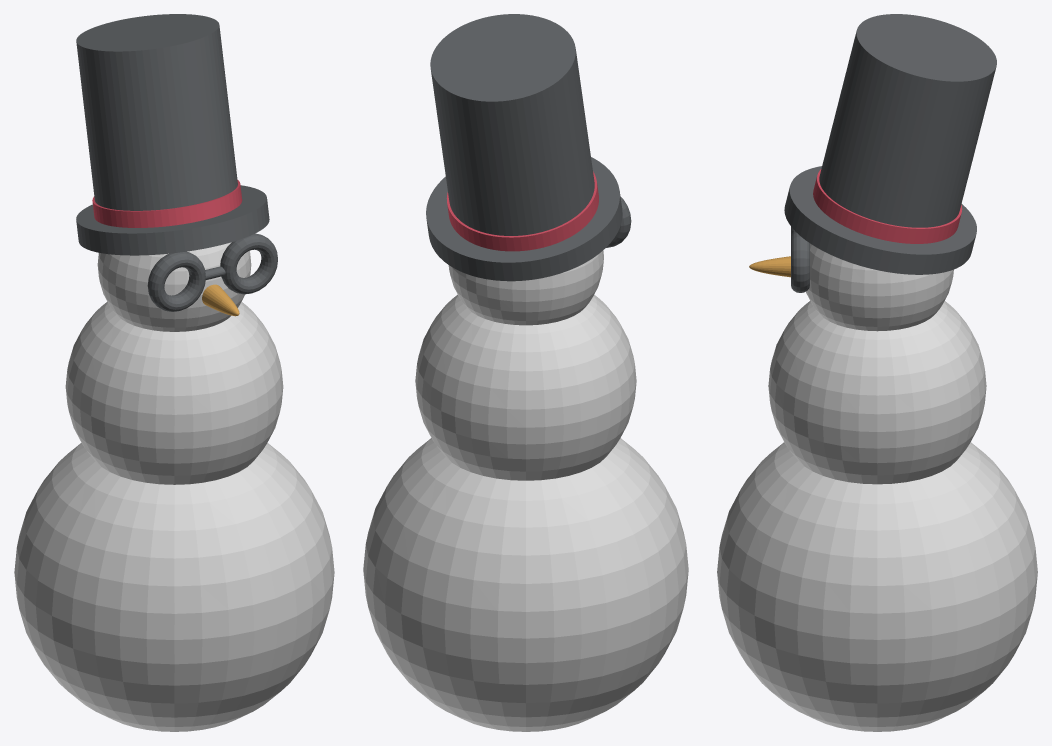
The model's file is Snow -man.glb.
The picture shows the model from 3 angles, left to right: view 1: azimuth 30°, elevation 25°; view 2: azimuth 150°, elevation 25°; view 3: azimuth 270°, elevation 25°; orthographic projection.
Visible parts, largest first — view 1: Mesh_Mesh_head_geo.001_lambert2SG.001; view 2: Mesh_Mesh_head_geo.001_lambert2SG.001; view 3: Mesh_Mesh_head_geo.001_lambert2SG.001.
Boxes of the visible parts, x1=… form: Mesh_Mesh_head_geo.001_lambert2SG.001: x1=14, y1=14, x2=334, y2=731; Mesh_Mesh_head_geo.001_lambert2SG.001: x1=363, y1=14, x2=688, y2=731; Mesh_Mesh_head_geo.001_lambert2SG.001: x1=717, y1=14, x2=1037, y2=731.
Bounding box in the file's own units: 0.025 × 0.0587 × 0.025.
